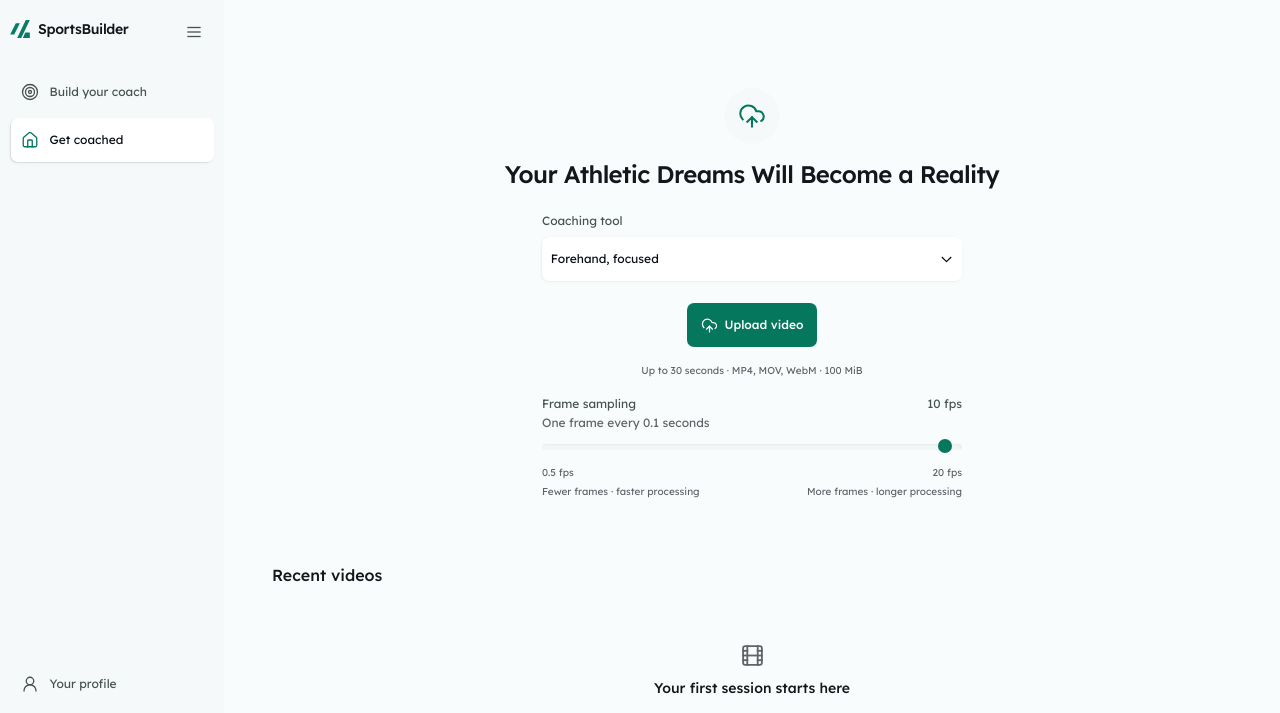
Test case: retains coach selection and reports a failed removal without hiding it
Click the dropdown named "Coaching tool for upload": (605, 258) [542, 237, 962, 281]
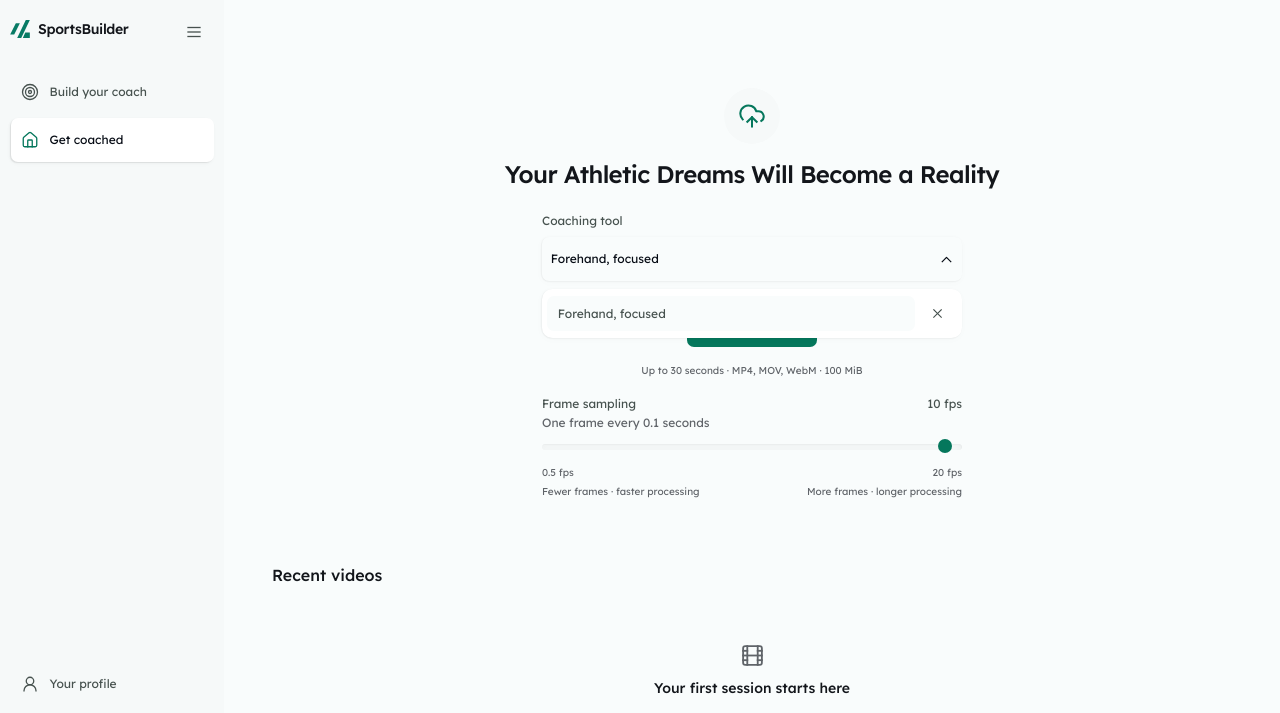
Click the button named "Remove Forehand, focused": (938, 314) [918, 294, 957, 333]
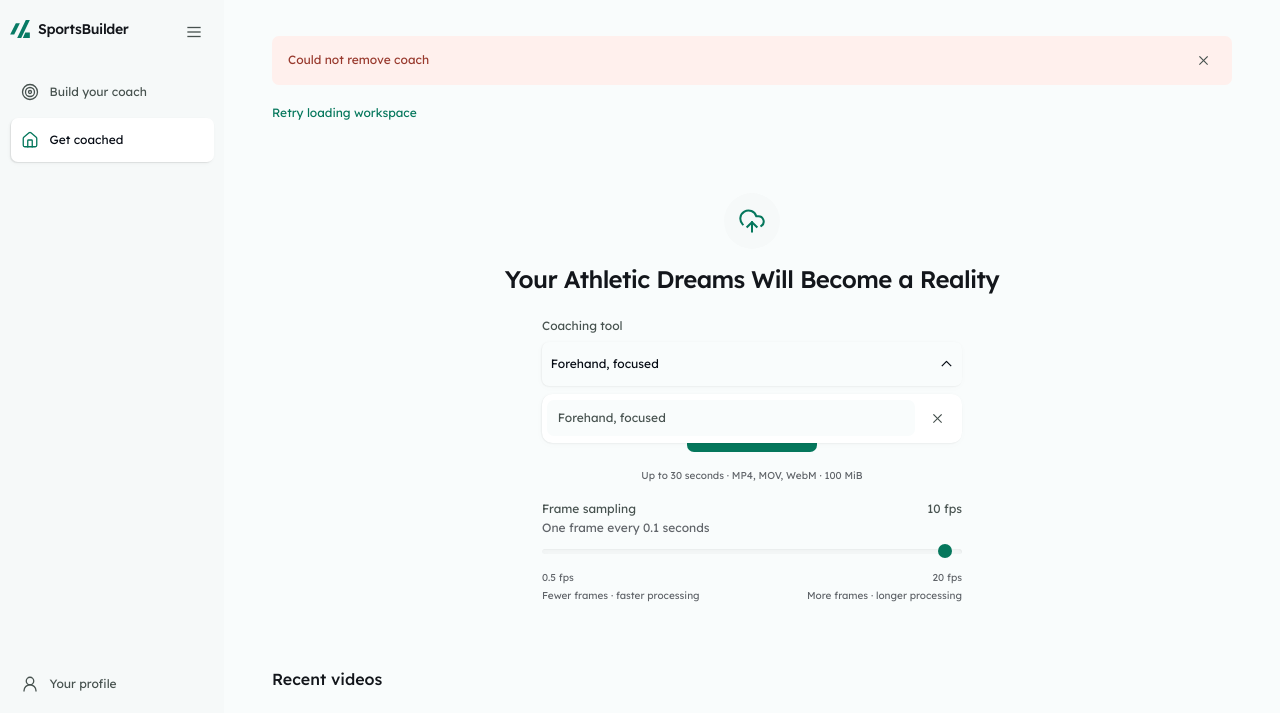
Check: the dropdown named "Coaching tool for upload" reads "Forehand, focused", box [542, 342, 962, 386]
Check: the text "Could not remove coach" is shown, box [288, 50, 429, 70]
